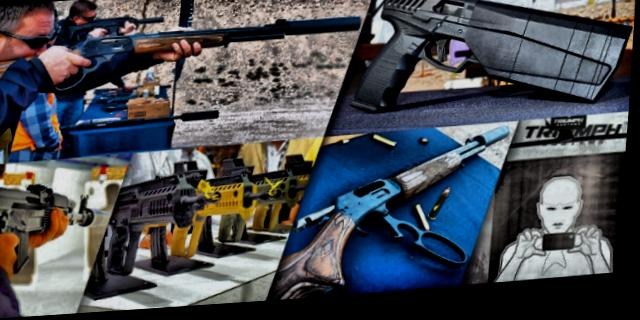pistol: (349, 0, 637, 128)
